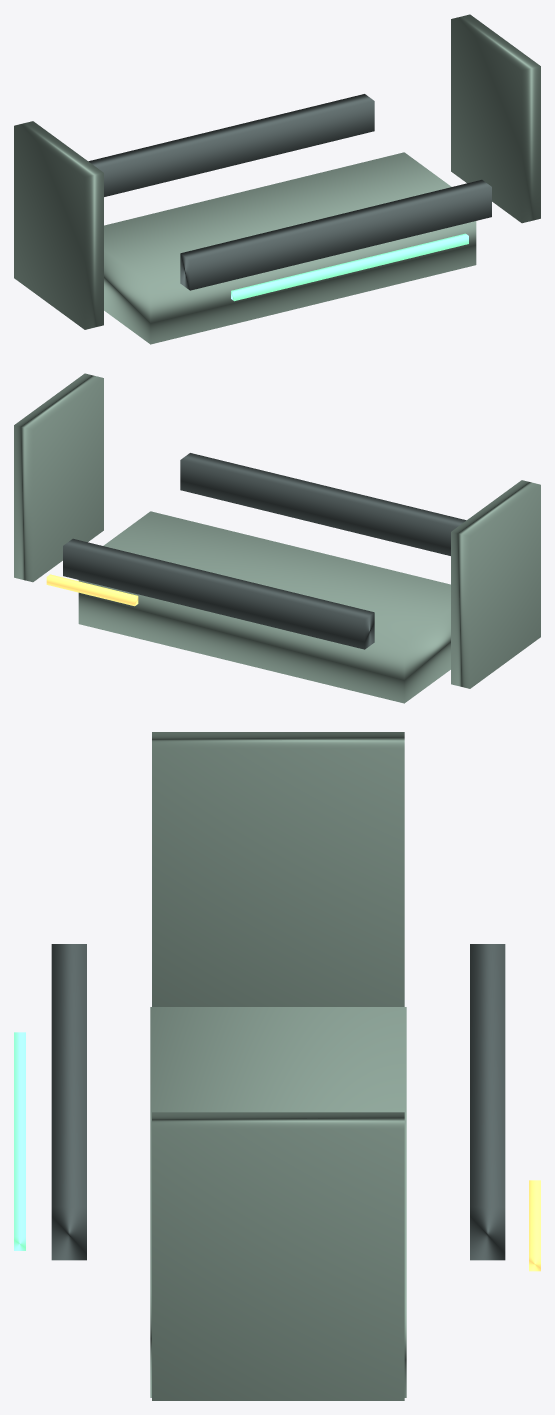
The model's file is spin-habitat-ring-segment-lod1.glb.
The picture shows the model from 3 angles, top to bottom: view 1: azimuth 30°, elevation 25°; view 2: azimuth 150°, elevation 25°; view 3: azimuth 270°, elevation 25°; orthographic projection. The views are drawn at different scales.
Visible parts, largest first — view 1: spin-habitat-ring-segment-deck, spin-habitat-ring-segment-rib-left, spin-habitat-ring-segment-rib-right, spin-habitat-ring-segment-outer-rail, spin-habitat-ring-segment-inner-rail, spin-habitat-ring-segment-wayfinding; view 2: spin-habitat-ring-segment-deck, spin-habitat-ring-segment-rib-left, spin-habitat-ring-segment-rib-right, spin-habitat-ring-segment-inner-rail, spin-habitat-ring-segment-outer-rail, spin-habitat-ring-segment-service-strip; view 3: spin-habitat-ring-segment-rib-right, spin-habitat-ring-segment-rib-left, spin-habitat-ring-segment-deck, spin-habitat-ring-segment-inner-rail, spin-habitat-ring-segment-outer-rail, spin-habitat-ring-segment-wayfinding, spin-habitat-ring-segment-service-strip.
Boxes of the visible parts, x1,y1,x2,y2 form: spin-habitat-ring-segment-deck: [104, 152, 476, 344]; spin-habitat-ring-segment-rib-left: [14, 121, 103, 329]; spin-habitat-ring-segment-rib-right: [451, 14, 540, 223]; spin-habitat-ring-segment-outer-rail: [180, 179, 491, 290]; spin-habitat-ring-segment-inner-rail: [88, 94, 374, 196]; spin-habitat-ring-segment-wayfinding: [231, 233, 468, 301]; spin-habitat-ring-segment-deck: [78, 511, 450, 703]; spin-habitat-ring-segment-rib-left: [451, 480, 540, 688]; spin-habitat-ring-segment-rib-right: [14, 373, 103, 582]; spin-habitat-ring-segment-inner-rail: [63, 538, 374, 649]; spin-habitat-ring-segment-outer-rail: [180, 453, 466, 555]; spin-habitat-ring-segment-service-strip: [46, 574, 138, 606]; spin-habitat-ring-segment-rib-right: [152, 1112, 404, 1400]; spin-habitat-ring-segment-rib-left: [152, 732, 404, 1006]; spin-habitat-ring-segment-deck: [150, 1007, 406, 1397]; spin-habitat-ring-segment-inner-rail: [470, 944, 505, 1260]; spin-habitat-ring-segment-outer-rail: [51, 944, 86, 1260]; spin-habitat-ring-segment-wayfinding: [14, 1032, 25, 1250]; spin-habitat-ring-segment-service-strip: [529, 1180, 540, 1271].
Bounding box in the file's own units: 4.76 × 1.82 × 2.67.
